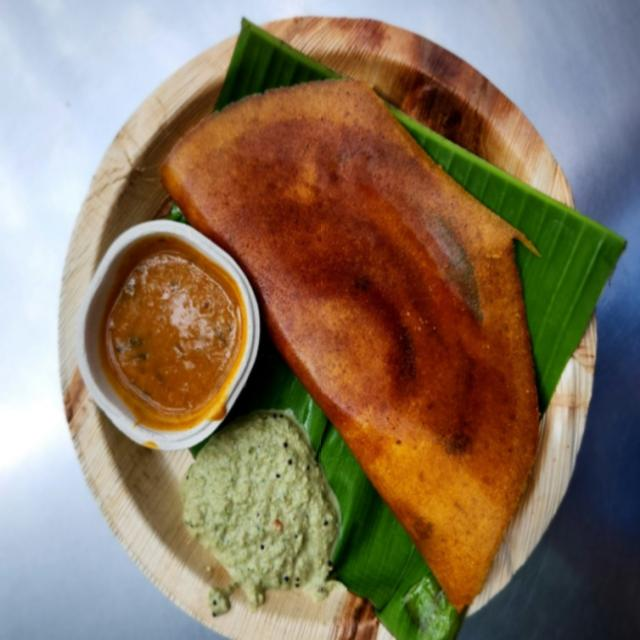DOSA: (161, 82, 537, 610)
SAMBAR: (104, 251, 244, 421)
WHITE CHUTNEY: (182, 411, 340, 606)
